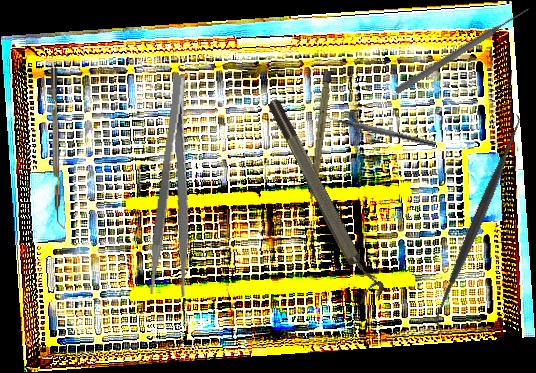Chopper: (320, 107, 438, 148), (50, 67, 68, 230)
Dressing Forceps: (146, 73, 209, 298)
Fixation Ring: (264, 93, 387, 305)
Pusher: (393, 3, 533, 97)
Scalpel Handle: (307, 70, 333, 202)
Spatula Surgical: (420, 111, 535, 333)
